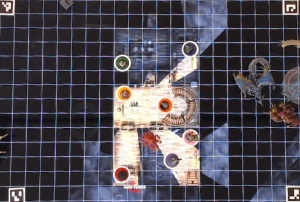blue: (181, 40, 199, 56)
green: (114, 53, 132, 71)
orange: (156, 97, 174, 113)
pink: (182, 127, 200, 146)
red: (113, 164, 130, 183)
violet: (162, 152, 180, 167)
yellow: (115, 83, 135, 100)
